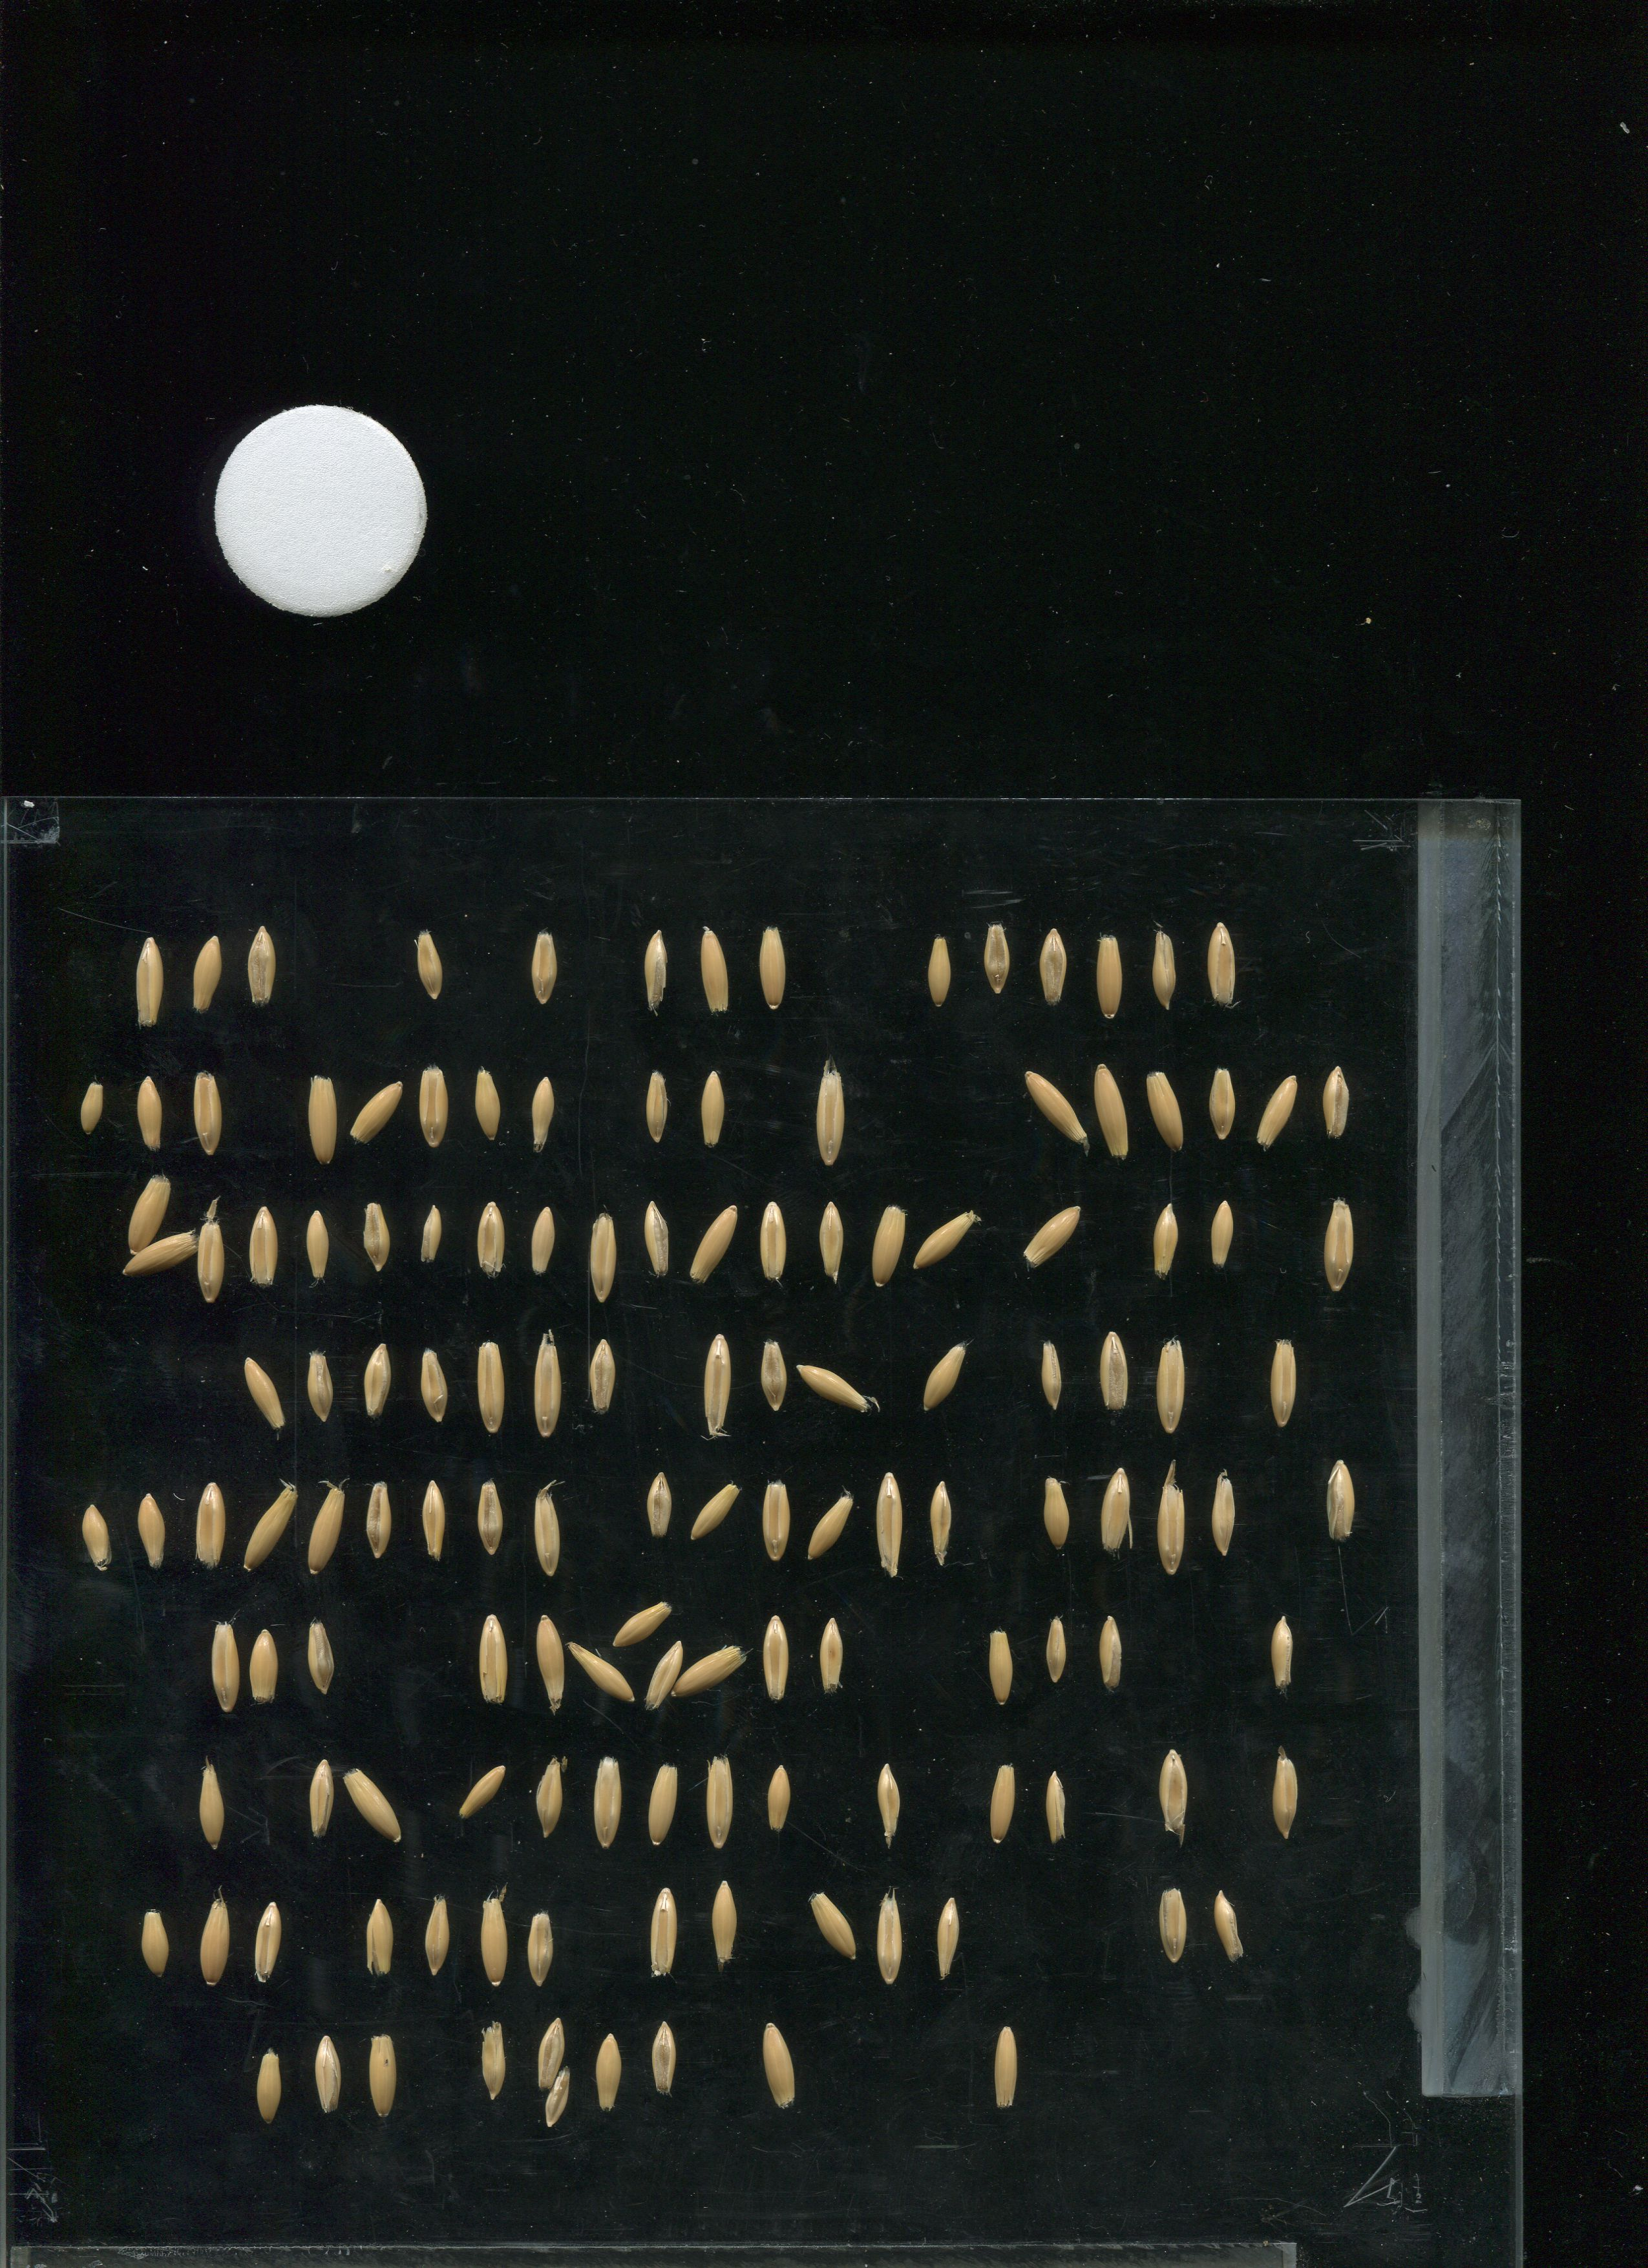NakedGrain: (1211, 1884, 1252, 1965), (81, 1499, 116, 1574), (76, 1078, 107, 1141)
WholeGrain: (338, 1759, 405, 1845), (1023, 1069, 1088, 1153), (562, 1641, 639, 1706), (243, 1479, 296, 1572), (810, 1062, 856, 1166), (1088, 1062, 1134, 1164), (791, 1361, 879, 1414), (667, 1645, 755, 1697), (803, 1884, 861, 1963), (1264, 1740, 1305, 1851), (909, 1210, 982, 1270), (695, 1333, 736, 1442), (416, 1329, 456, 1439), (356, 1328, 396, 1437), (299, 1324, 340, 1433), (917, 1467, 958, 1576), (754, 1465, 794, 1574), (1095, 1462, 1136, 1571), (803, 1484, 857, 1565), (301, 1608, 342, 1717), (245, 1608, 285, 1717), (526, 1606, 567, 1715), (757, 1604, 798, 1713), (810, 1602, 850, 1712), (1035, 1597, 1076, 1706), (1090, 1601, 1130, 1710), (1035, 1754, 1076, 1863), (866, 1750, 907, 1859), (928, 1882, 968, 1992), (868, 1881, 909, 1990), (757, 1747, 798, 1856), (641, 1749, 681, 1858), (195, 1891, 236, 2000), (245, 1886, 285, 1995), (472, 1882, 512, 1992), (643, 1879, 683, 1988), (519, 1884, 560, 1993), (759, 2009, 799, 2118), (586, 2018, 627, 2127), (1143, 1065, 1188, 1160), (129, 932, 171, 1034), (1153, 1740, 1192, 1851), (692, 1199, 741, 1285), (528, 1329, 567, 1439), (583, 1321, 622, 1430), (472, 1335, 511, 1444), (134, 1474, 173, 1583), (190, 1470, 229, 1580), (308, 1476, 347, 1585), (357, 1470, 396, 1580), (414, 1465, 452, 1574), (472, 1463, 511, 1572), (530, 1474, 569, 1583), (870, 1470, 909, 1580), (1155, 1469, 1194, 1578), (1203, 1456, 1241, 1565), (1322, 1446, 1361, 1555), (206, 1606, 245, 1715), (474, 1604, 512, 1713), (528, 1608, 567, 1717), (982, 1608, 1021, 1717), (1262, 1599, 1301, 1708), (1153, 1874, 1192, 1983), (984, 2011, 1023, 2120), (982, 1750, 1021, 1859), (699, 1747, 738, 1856), (588, 1749, 627, 1858), (535, 1740, 574, 1849), (190, 1749, 229, 1858), (301, 1742, 340, 1851), (136, 1886, 174, 1995), (363, 1889, 401, 1999), (419, 1881, 458, 1990), (708, 1874, 747, 1983), (644, 2006, 683, 2115), (363, 2018, 401, 2127), (310, 2016, 349, 2125), (250, 2025, 289, 2134), (120, 1226, 202, 1277), (123, 1171, 171, 1259), (1035, 1465, 1078, 1564), (241, 916, 282, 1018), (634, 919, 674, 1021), (694, 921, 734, 1023), (752, 919, 792, 1021), (1261, 1337, 1303, 1433), (1254, 1069, 1301, 1153), (687, 1479, 743, 1550), (1319, 1196, 1359, 1292), (1150, 1338, 1190, 1435), (1092, 1328, 1132, 1425), (1028, 1328, 1069, 1425), (752, 1328, 792, 1425), (356, 1190, 396, 1282), (519, 1190, 560, 1282), (919, 1340, 970, 1412), (454, 1757, 512, 1821), (407, 919, 447, 1009), (187, 932, 227, 1021), (1030, 924, 1070, 1014), (1090, 932, 1130, 1021), (1143, 924, 1183, 1014), (1204, 1058, 1245, 1148), (636, 1060, 676, 1150), (525, 1067, 565, 1157), (467, 1060, 507, 1150), (188, 1067, 229, 1157), (129, 1067, 169, 1157), (245, 1206, 285, 1296), (192, 1213, 232, 1303), (298, 1203, 338, 1292), (412, 1189, 452, 1278), (470, 1194, 511, 1284), (583, 1215, 623, 1305), (634, 1194, 674, 1284), (754, 1197, 794, 1287), (810, 1196, 850, 1285), (1143, 1197, 1183, 1287), (239, 1356, 287, 1432), (1023, 1206, 1081, 1268), (352, 1079, 403, 1148), (921, 926, 960, 1016), (525, 921, 563, 1011), (977, 914, 1016, 1004), (1203, 919, 1241, 1009), (1315, 1055, 1354, 1145), (695, 1065, 734, 1155), (414, 1060, 452, 1150), (305, 1074, 343, 1164), (870, 1204, 909, 1294), (1203, 1190, 1241, 1280), (611, 1599, 676, 1648), (641, 1638, 685, 1710), (539, 2060, 581, 2132), (475, 2014, 509, 2104), (533, 2013, 569, 2094), (643, 1467, 674, 1544)
